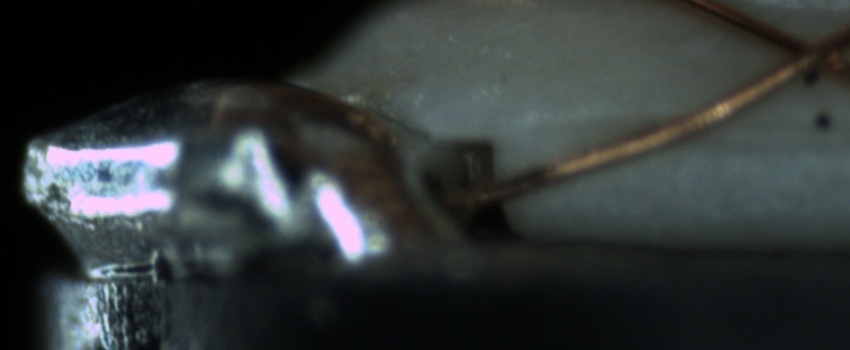CL: (756, 17, 846, 94)
DL: (535, 96, 850, 158)
